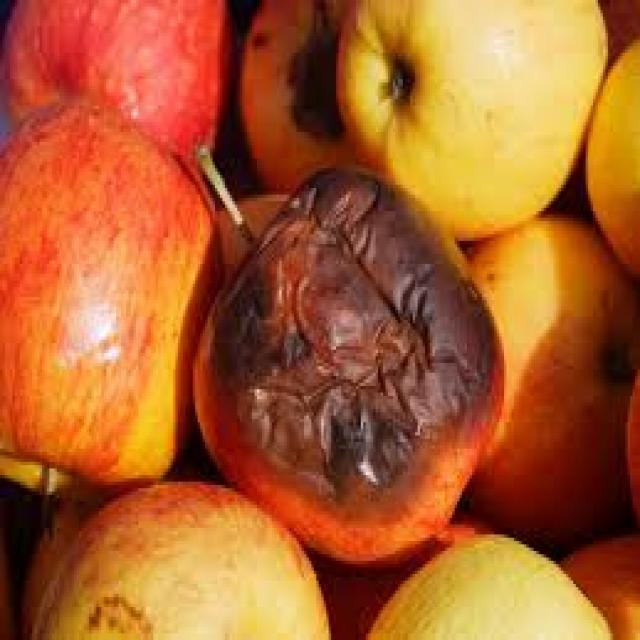organic waste: (190, 142, 502, 561), (0, 92, 205, 485), (331, 0, 606, 241), (457, 211, 638, 548), (24, 478, 328, 637), (0, 0, 227, 168), (361, 531, 608, 637), (237, 0, 355, 181), (583, 23, 638, 274), (17, 495, 89, 637), (551, 538, 638, 636), (311, 558, 418, 636), (620, 360, 638, 531)
